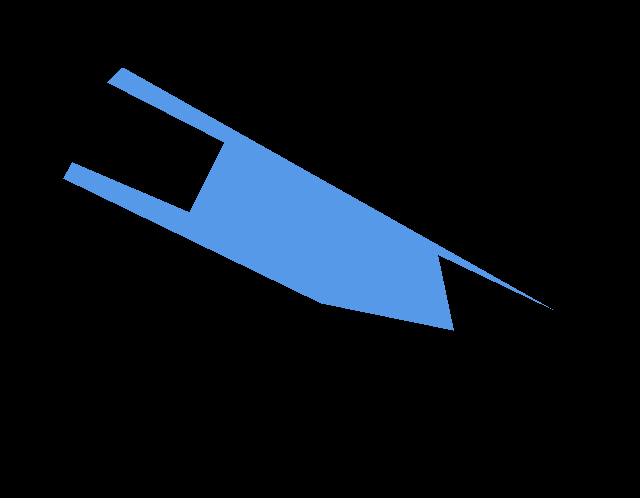Airplane: (63, 68, 553, 330)
